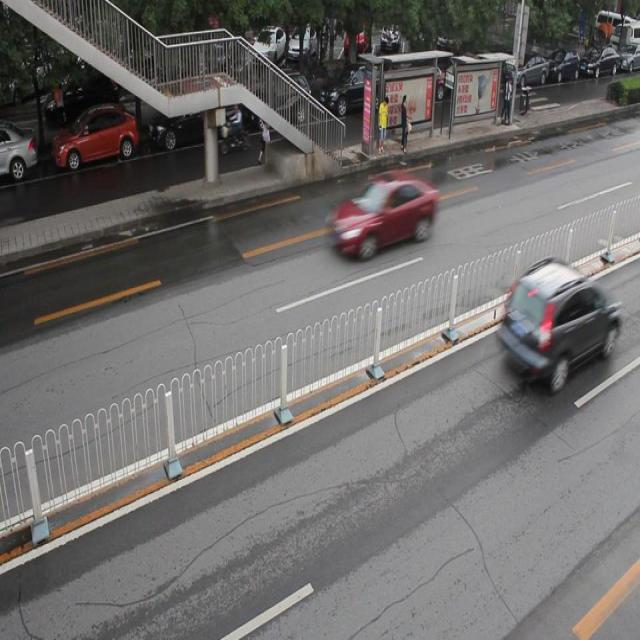car: (493, 260, 618, 392), (324, 175, 438, 261), (148, 94, 241, 149), (54, 110, 139, 167), (317, 66, 390, 120), (247, 74, 313, 133), (1, 124, 38, 181)
